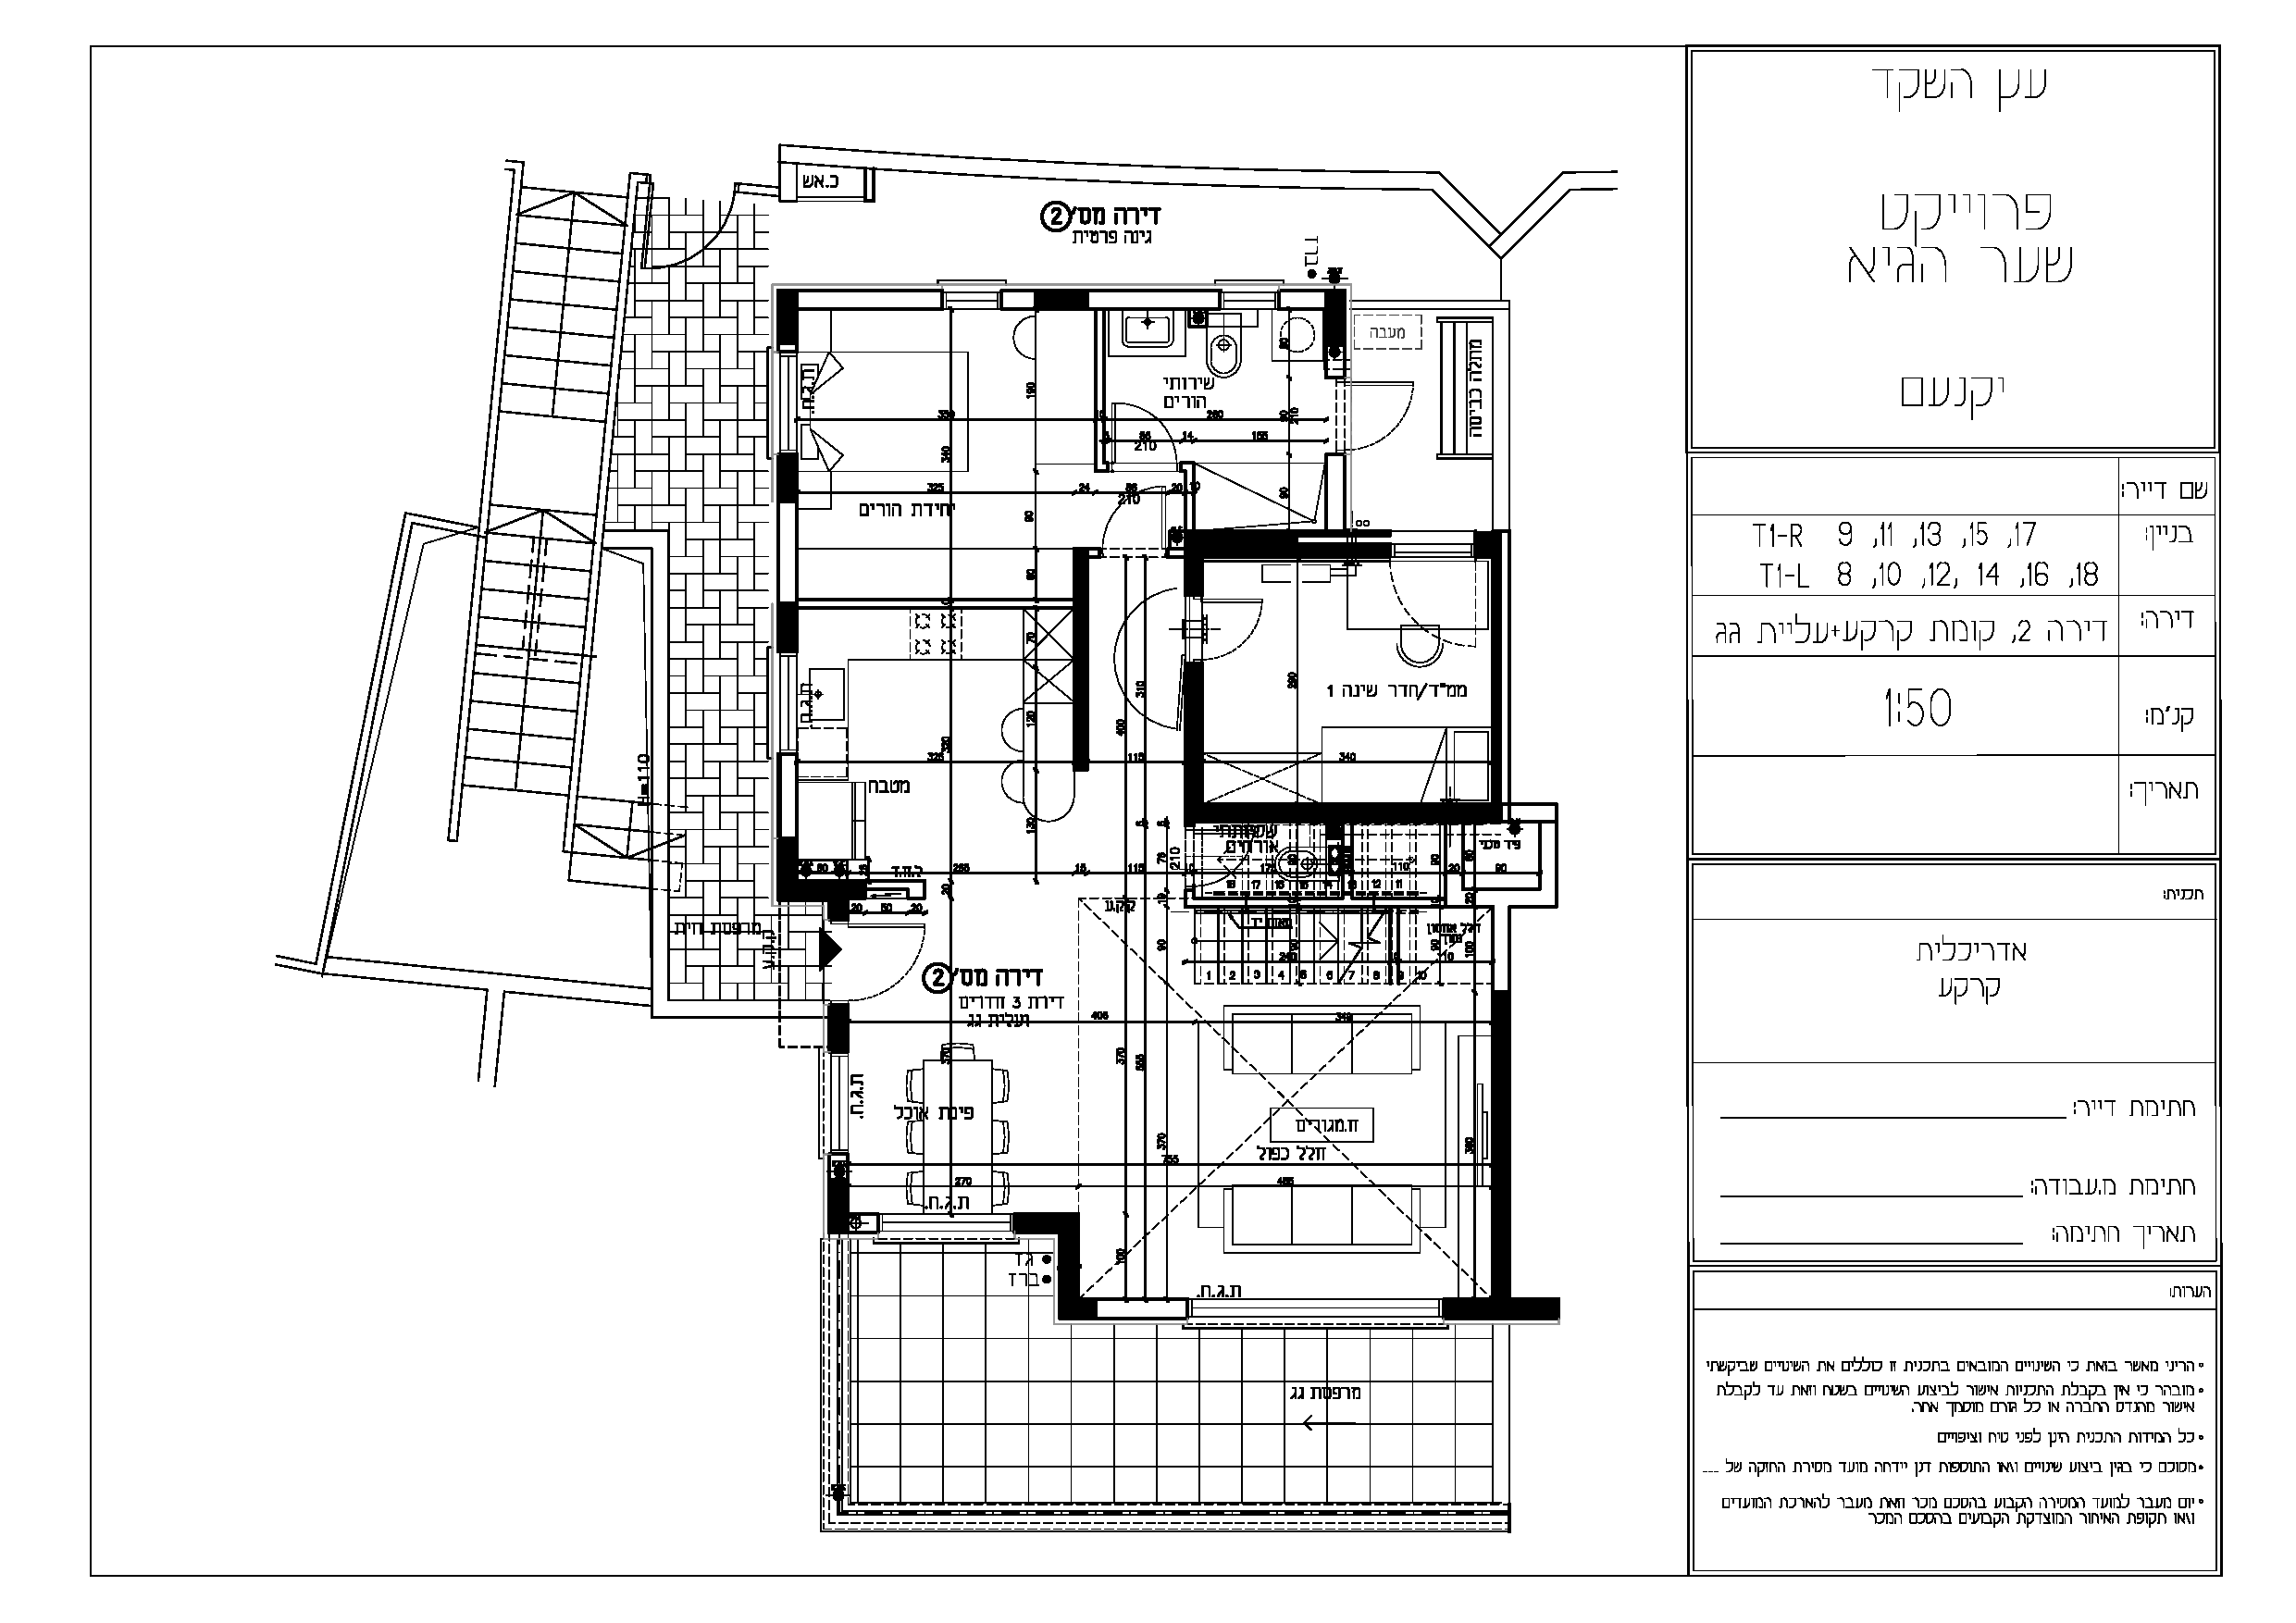door: (861, 920, 928, 1005), (1363, 374, 1421, 464), (1214, 590, 1272, 667), (1107, 399, 1182, 457)
wall: (1193, 804, 1488, 820), (1495, 994, 1509, 1319), (1189, 532, 1296, 557), (1186, 667, 1202, 819), (1075, 550, 1086, 768), (1491, 536, 1498, 797), (1451, 1302, 1551, 1317), (782, 882, 852, 896), (778, 292, 796, 341), (1188, 530, 1200, 592)
window: (1186, 1293, 1444, 1331), (877, 1207, 1014, 1247), (775, 650, 803, 755), (1391, 539, 1476, 566), (942, 285, 1001, 316)
